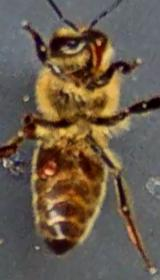varroa_mite: (32, 155, 74, 182)
